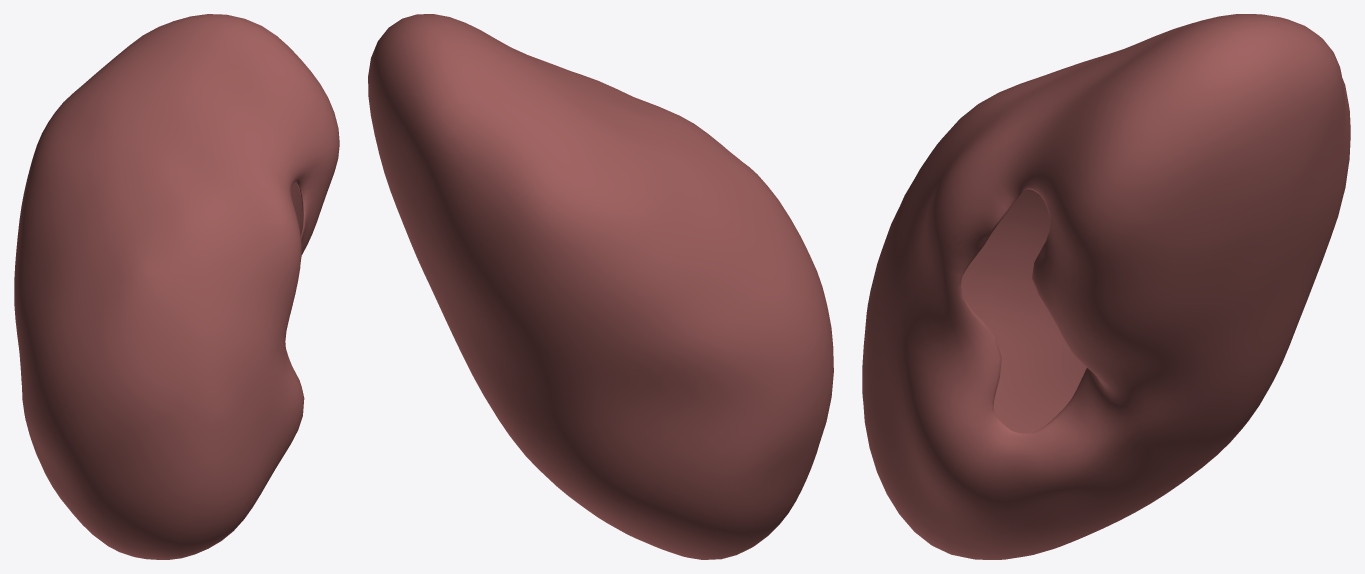
Rendered from frau2-596.glb.
The picture shows the model from 3 angles, left to right: view 1: azimuth 30°, elevation 25°; view 2: azimuth 150°, elevation 25°; view 3: azimuth 270°, elevation 25°; orthographic projection. The views are drawn at different scales.
Parts seen in each view (by area): view 1: VH_F_kidney_capsule_R; view 2: VH_F_kidney_capsule_R; view 3: VH_F_kidney_capsule_R.
Part boxes in pixels (<box>): VH_F_kidney_capsule_R: <box>14,14,339,559</box>; VH_F_kidney_capsule_R: <box>368,14,833,559</box>; VH_F_kidney_capsule_R: <box>862,14,1350,559</box>.
Bounding box in the file's own units: 0.0734 × 0.0979 × 0.0695.
